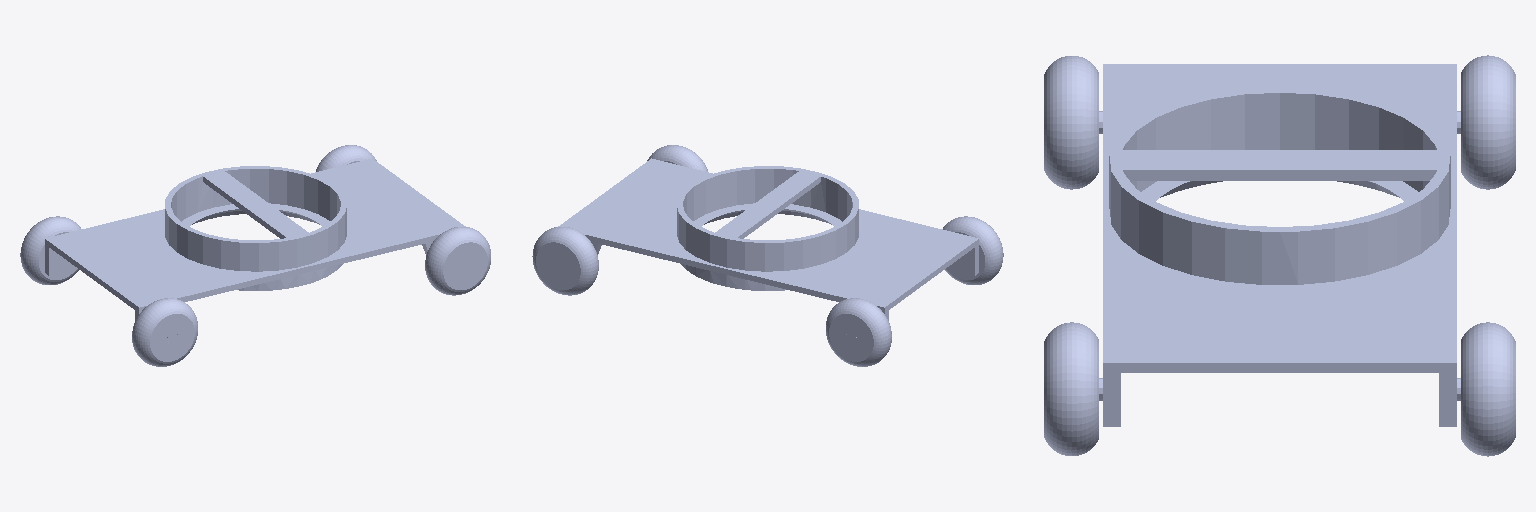
robot.urdf — Wallclimbingrobot:
<?xml version="1.0" encoding="utf-8"?>
<!-- This URDF was automatically created by SolidWorks to URDF Exporter! Originally created by Stephen Brawner (brawner@gmail.com) 
     Commit Version: 1.6.0-4-g7f85cfe  Build Version: 1.6.7995.38578
     For more information, please see http://wiki.ros.org/sw_urdf_exporter -->
<robot
  name="Wallclimbingrobot">
  <link
    name="base_link">
    <inertial>
      <origin
        xyz="0 0 -0.00139167053492445"
        rpy="0 0 0" />
      <mass
        value="2.24200509812134" />
      <inertia
        ixx="0.0249086640869241"
        ixy="4.01026389598321E-18"
        ixz="-5.31210156988019E-18"
        iyy="0.0777395584720522"
        iyz="6.75854069904095E-19"
        izz="0.100518609386422" />
    </inertial>
    <visual>
      <origin
        xyz="0 0 0"
        rpy="0 0 0" />
      <geometry>
        <mesh
          filename="package://Wallclimbingrobot/meshes/base_link.STL" />
      </geometry>
      <material
        name="">
        <color
          rgba="0.792156862745098 0.819607843137255 0.933333333333333 1" />
      </material>
    </visual>
    <collision>
      <origin
        xyz="0 0 0"
        rpy="0 0 0" />
      <geometry>
        <mesh
          filename="package://Wallclimbingrobot/meshes/base_link.STL" />
      </geometry>
    </collision>
  </link>
  <link
    name="link_BR">
    <inertial>
      <origin
        xyz="-2.7756E-16 0.023324 1.3878E-16"
        rpy="0 0 0" />
      <mass
        value="0.39375" />
      <inertia
        ixx="0.00035222"
        ixy="7.5731E-21"
        ixz="-6.1531E-21"
        iyy="0.00058248"
        iyz="1.8933E-21"
        izz="0.00035222" />
    </inertial>
    <visual>
      <origin
        xyz="0 0 0"
        rpy="0 0 0" />
      <geometry>
        <mesh
          filename="package://Wallclimbingrobot/meshes/link_BR.STL" />
      </geometry>
      <material
        name="">
        <color
          rgba="0.79216 0.81961 0.93333 1" />
      </material>
    </visual>
    <collision>
      <origin
        xyz="0 0 0"
        rpy="0 0 0" />
      <geometry>
        <mesh
          filename="package://Wallclimbingrobot/meshes/link_BR.STL" />
      </geometry>
    </collision>
  </link>
  <joint
    name="joint_BR"
    type="continuous">
    <origin
      xyz="-0.26814 -0.2 -0.04"
      rpy="0 0 0" />
    <parent
      link="base_link" />
    <child
      link="link_BR" />
    <axis
      xyz="0 1 0" />
  </joint>
  <link
    name="link_BL">
    <inertial>
      <origin
        xyz="-5.5511E-17 -0.023324 5.5511E-17"
        rpy="0 0 0" />
      <mass
        value="0.39375" />
      <inertia
        ixx="0.00035222"
        ixy="5.4144E-21"
        ixz="0"
        iyy="0.00058248"
        iyz="-1.2032E-19"
        izz="0.00035222" />
    </inertial>
    <visual>
      <origin
        xyz="0 0 0"
        rpy="0 0 0" />
      <geometry>
        <mesh
          filename="package://Wallclimbingrobot/meshes/link_BL.STL" />
      </geometry>
      <material
        name="">
        <color
          rgba="0.79216 0.81961 0.93333 1" />
      </material>
    </visual>
    <collision>
      <origin
        xyz="0 0 0"
        rpy="0 0 0" />
      <geometry>
        <mesh
          filename="package://Wallclimbingrobot/meshes/link_BL.STL" />
      </geometry>
    </collision>
  </link>
  <joint
    name="joint_BL"
    type="continuous">
    <origin
      xyz="-0.26814 0.2 -0.04"
      rpy="0 0.32175 0" />
    <parent
      link="base_link" />
    <child
      link="link_BL" />
    <axis
      xyz="0 1 0" />
  </joint>
  <link
    name="link_FL">
    <inertial>
      <origin
        xyz="1.3878E-17 -0.023324 0"
        rpy="0 0 0" />
      <mass
        value="0.39375" />
      <inertia
        ixx="0.00035222"
        ixy="2.6341E-21"
        ixz="-2.2739E-21"
        iyy="0.00058248"
        iyz="-2.1973E-19"
        izz="0.00035222" />
    </inertial>
    <visual>
      <origin
        xyz="0 0 0"
        rpy="0 0 0" />
      <geometry>
        <mesh
          filename="package://Wallclimbingrobot/meshes/link_FL.STL" />
      </geometry>
      <material
        name="">
        <color
          rgba="0.79216 0.81961 0.93333 1" />
      </material>
    </visual>
    <collision>
      <origin
        xyz="0 0 0"
        rpy="0 0 0" />
      <geometry>
        <mesh
          filename="package://Wallclimbingrobot/meshes/link_FL.STL" />
      </geometry>
    </collision>
  </link>
  <joint
    name="joint_FL"
    type="continuous">
    <origin
      xyz="0.26814 0.2 -0.04"
      rpy="0 0 0" />
    <parent
      link="base_link" />
    <child
      link="link_FL" />
    <axis
      xyz="0 1 0" />
  </joint>
  <link
    name="link_FR">
    <inertial>
      <origin
        xyz="1.3878E-17 0.023324 0"
        rpy="0 0 0" />
      <mass
        value="0.39375" />
      <inertia
        ixx="0.00035222"
        ixy="-9.2853E-22"
        ixz="-4.4492E-21"
        iyy="0.00058248"
        iyz="6.9654E-21"
        izz="0.00035222" />
    </inertial>
    <visual>
      <origin
        xyz="0 0 0"
        rpy="0 0 0" />
      <geometry>
        <mesh
          filename="package://Wallclimbingrobot/meshes/link_FR.STL" />
      </geometry>
      <material
        name="">
        <color
          rgba="0.79216 0.81961 0.93333 1" />
      </material>
    </visual>
    <collision>
      <origin
        xyz="0 0 0"
        rpy="0 0 0" />
      <geometry>
        <mesh
          filename="package://Wallclimbingrobot/meshes/link_FR.STL" />
      </geometry>
    </collision>
  </link>
  <joint
    name="joint_FR"
    type="continuous">
    <origin
      xyz="0.26814 -0.2 -0.04"
      rpy="0 0 0" />
    <parent
      link="base_link" />
    <child
      link="link_FR" />
    <axis
      xyz="0 1 0" />
  </joint>
</robot>

--- What the picture shows (computed from the rendered views, not written in the file) ---
3 views of the same robot in one strip: view 1: azimuth 30°, elevation 25°; view 2: azimuth 150°, elevation 25°; view 3: azimuth 270°, elevation 25° (orthographic).
Robot: Wallclimbingrobot — 5 links, 4 joints (4 continuous); root link base_link; default pose: all joints at 0.
Links seen in each view (by area): view 1: link_BL, link_BR, link_FL, link_FR, base_link; view 2: link_BL, link_FL, link_BR, base_link, link_FR; view 3: link_BL, link_FL, link_FR, base_link, link_BR.
Boxes of the visible links, x1,y1,x2,y2 form: link_BL: (21,145,486,366); link_BR: (20,163,487,366); link_FL: (39,145,489,364); link_FR: (49,145,490,365); base_link: (39,161,487,361); link_BL: (537,145,1002,366); link_FL: (532,145,978,365); link_BR: (536,161,1003,366); base_link: (538,162,984,361); link_FR: (542,145,984,318); link_BL: (1044,56,1515,378); link_FL: (1044,62,1515,456); link_FR: (1047,62,1506,456); base_link: (1103,64,1456,102); link_BR: (1044,55,1515,111).
Bounding box of the posed robot: 0.6502 × 0.4 × 0.147 m (x, y, z).
Meshes: 5 distinct files referenced, 5 mesh visuals loaded (5 ASCII STL).
